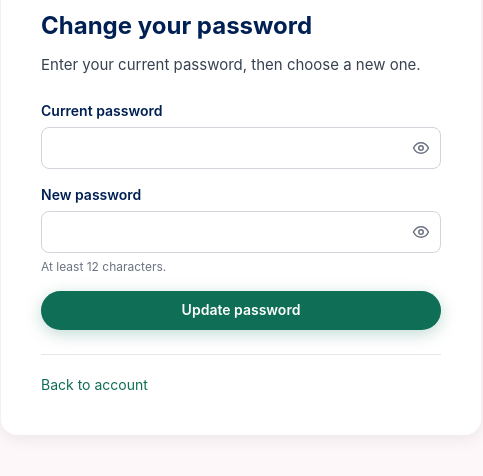
Test case: ResetPasswordForm — submission › surfaces 401 as a field-level error on the current-password input
Type "wrongpw1" into the password field labelled "Current password". click: (241, 148)
box: [41,127,441,169]
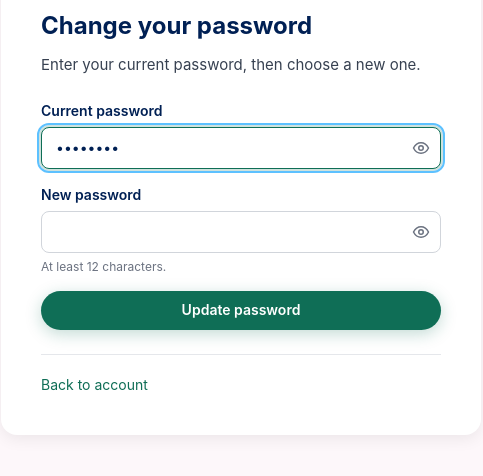
Type "NewStrong!Pass99" into the password field labelled "New password". click: (241, 232)
box: [41,211,441,253]
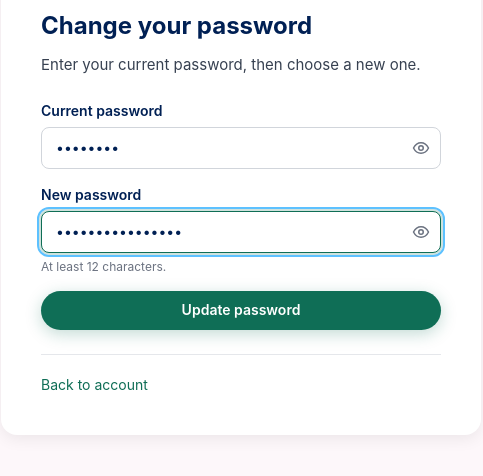
Click the button "Update password". click: (241, 311)
box: [41,291,441,330]
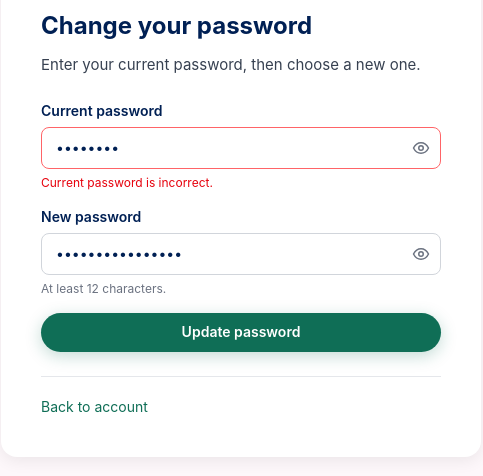
Check: the text "Current password is incorrect." is shown, box [41,175,213,190]
